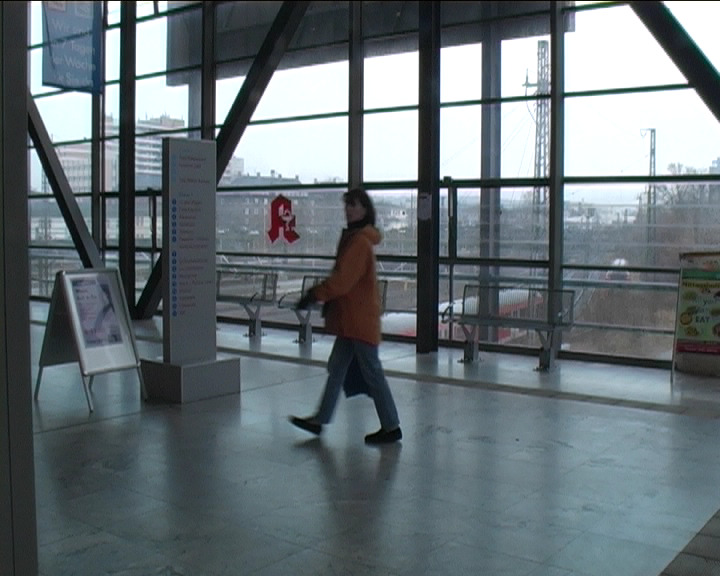deflection: (325, 192, 384, 293)
